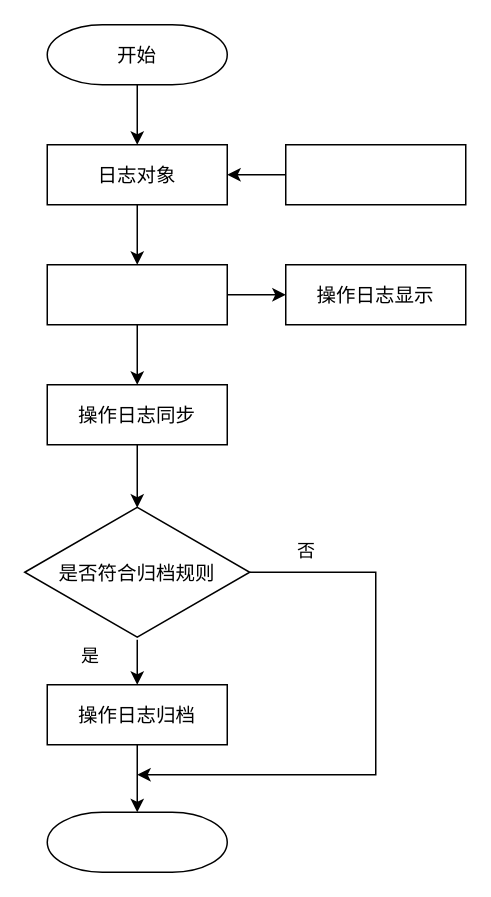
Image size: 491x897. Some labels were removed from this diagram. The centre of each missing label's shape, as x and y in pixels:
"工作进程" goes at (x=375, y=174).
"操作日志缓存" goes at (x=136, y=294).
"结束" goes at (x=136, y=841).
